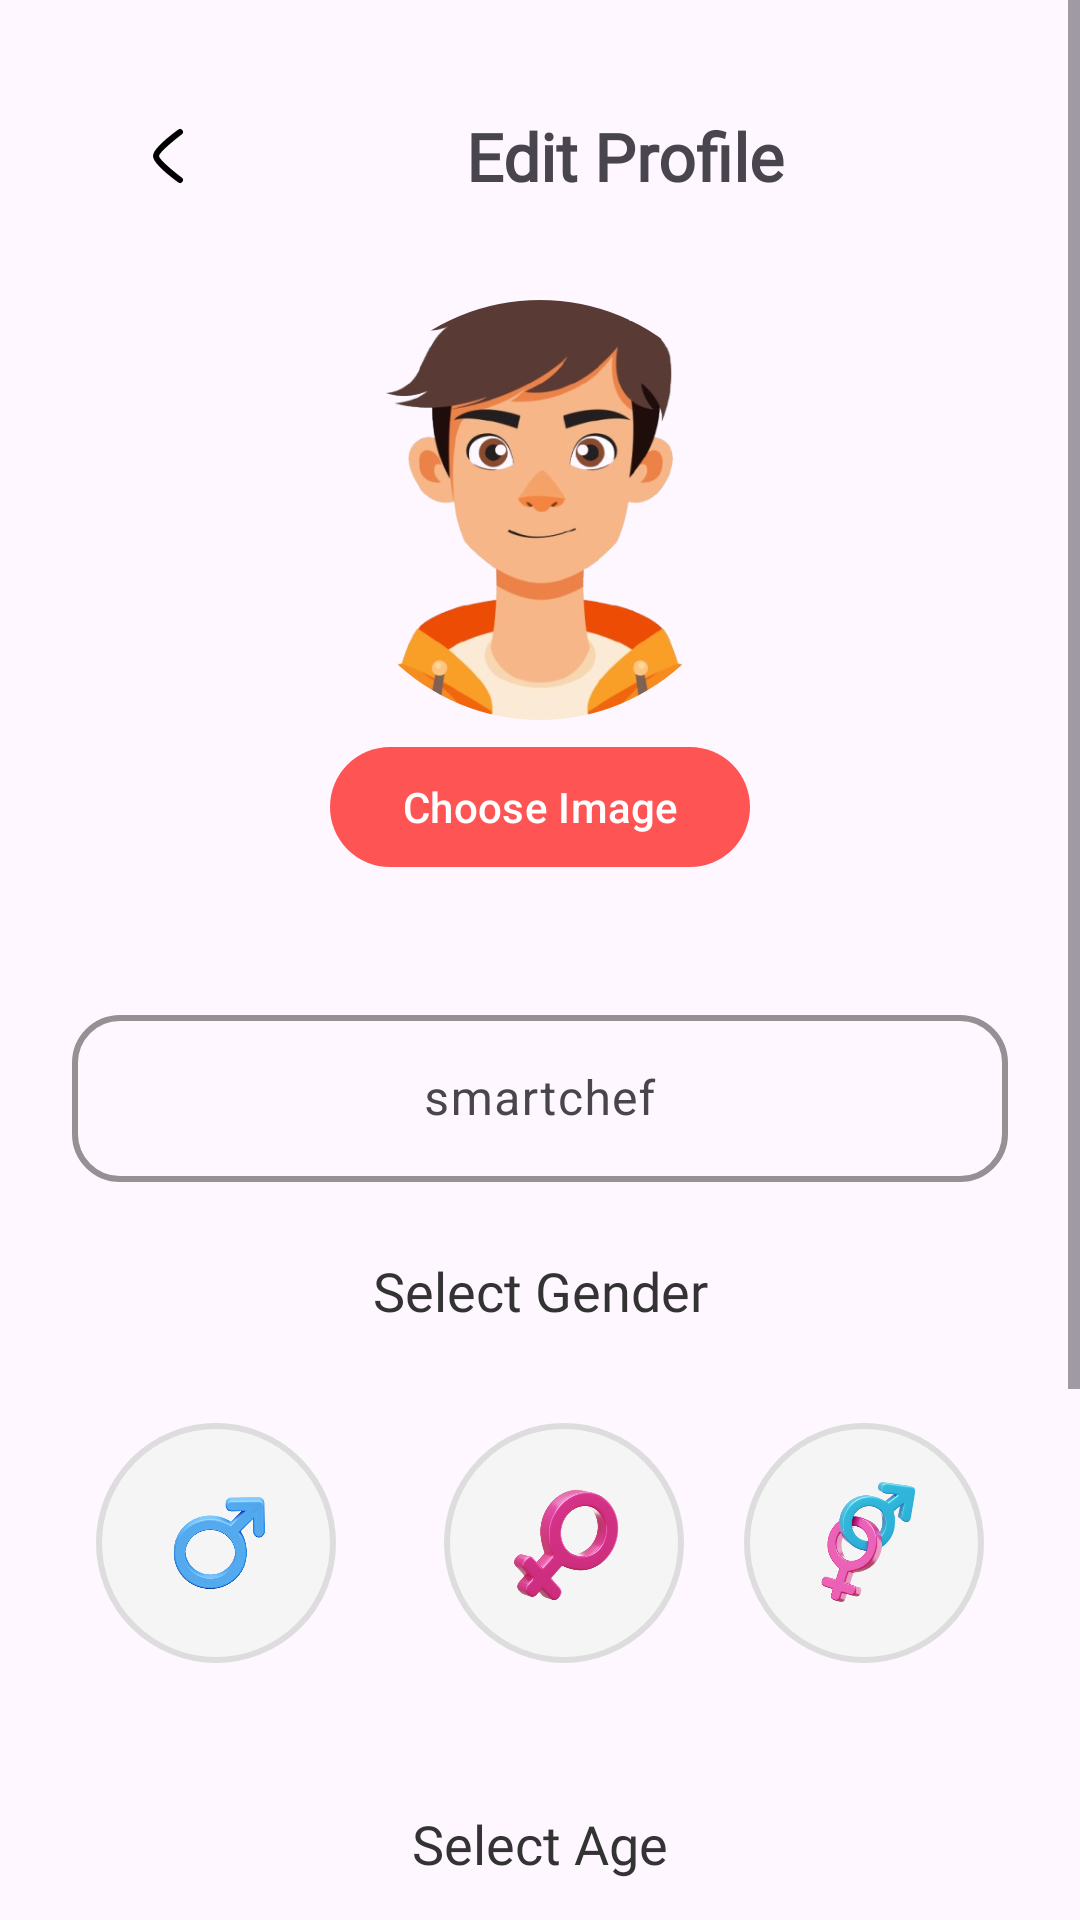

Point at icon controls on the screen. Image size 1080w x 1920h, points as [x,y].
Female: [564,1543]
Male: [216,1543]
Other: [864,1543]
